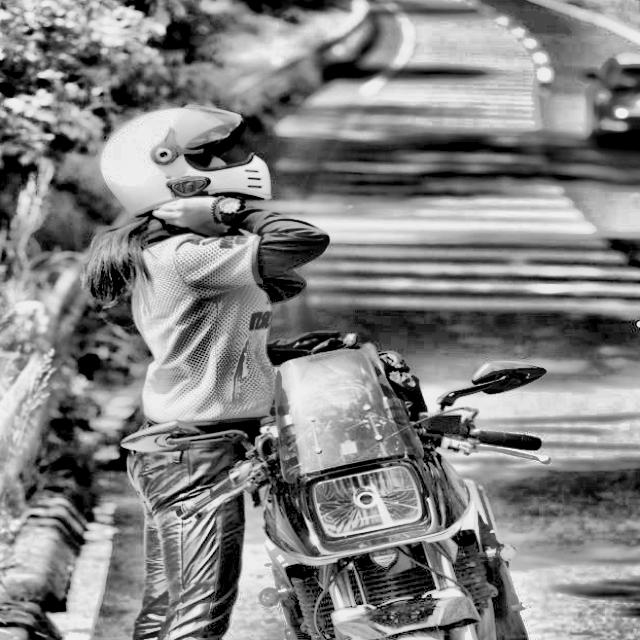Helmet: (95, 99, 278, 223)
